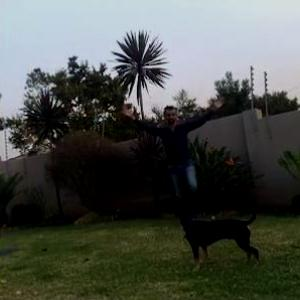takeoff: (117, 99, 226, 220)
